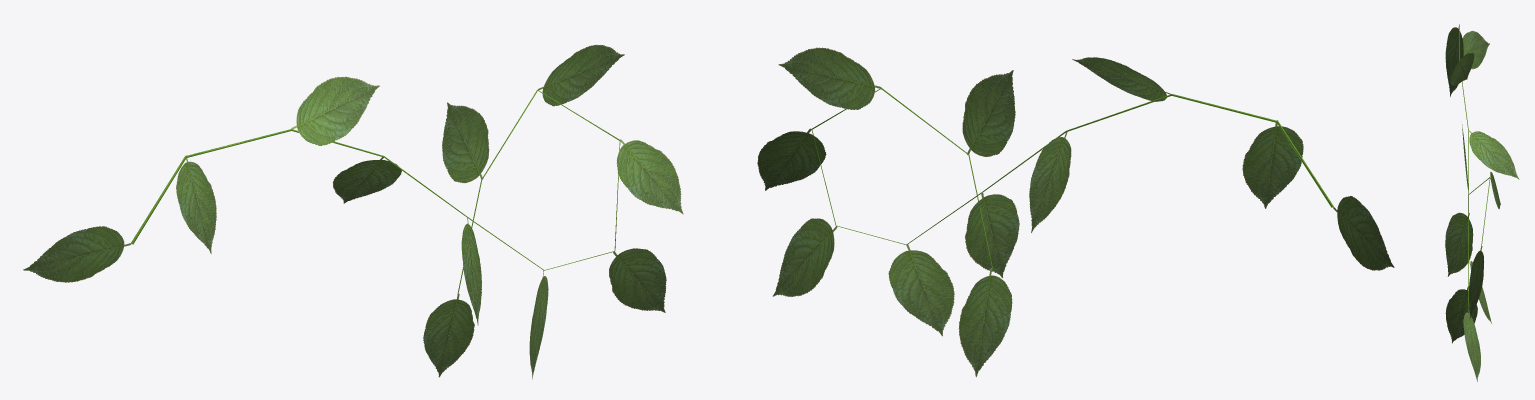
File: 74pvine.FBX
The picture shows the model from 3 angles, left to right: view 1: azimuth 30°, elevation 25°; view 2: azimuth 150°, elevation 25°; view 3: azimuth 270°, elevation 25°; orthographic projection. The views are drawn at different scales.
Parts seen in each view (by area): view 1: Plane003, Plane001, Plane008, Plane010, Plane007, Plane011, Plane009, Plane002, Plane004, Cylinder003, Plane005, Plane006; view 2: Plane009, Plane006, Plane011, Plane010, Plane005, Plane002, Plane007, Plane008, Plane004, Plane001, Plane003, Cylinder003; view 3: Plane005, Plane004, Plane006, Plane002, Plane007, Plane008, Plane001, Plane003, Cylinder003, Plane011, Plane009, Plane010.
Part boxes in pixels (left/top/right/bottom): Plane003: left=290, top=76, right=379, bottom=145; Plane001: left=23, top=226, right=131, bottom=282; Plane008: left=616, top=139, right=683, bottom=214; Plane010: left=442, top=102, right=489, bottom=183; Plane007: left=609, top=248, right=666, bottom=312; Plane011: left=423, top=294, right=474, bottom=377; Plane009: left=537, top=44, right=624, bottom=106; Plane002: left=176, top=155, right=216, bottom=253; Plane004: left=332, top=157, right=401, bottom=203; Cylinder003: left=131, top=90, right=620, bottom=294; Plane005: left=461, top=218, right=481, bottom=325; Plane006: left=529, top=270, right=548, bottom=379; Plane009: left=778, top=47, right=881, bottom=109; Plane006: left=888, top=244, right=954, bottom=336; Plane011: left=958, top=268, right=1012, bottom=377; Plane010: left=962, top=70, right=1015, bottom=156; Plane005: left=965, top=191, right=1019, bottom=278; Plane002: left=1242, top=120, right=1303, bottom=208; Plane007: left=772, top=218, right=837, bottom=296; Plane008: left=757, top=128, right=826, bottom=190; Plane004: left=1029, top=131, right=1071, bottom=232; Plane001: left=1333, top=196, right=1394, bottom=270; Plane003: left=1072, top=57, right=1171, bottom=101; Cylinder003: left=812, top=88, right=1333, bottom=268; Plane005: left=1445, top=212, right=1473, bottom=276; Plane004: left=1468, top=130, right=1519, bottom=179; Plane006: left=1445, top=286, right=1477, bottom=343; Plane002: left=1445, top=24, right=1463, bottom=96; Plane007: left=1463, top=309, right=1480, bottom=381; Plane008: left=1469, top=246, right=1483, bottom=318; Plane001: left=1462, top=31, right=1489, bottom=69; Plane003: left=1450, top=52, right=1474, bottom=85; Cylinder003: left=1459, top=25, right=1490, bottom=309; Plane011: left=1469, top=261, right=1492, bottom=324; Plane009: left=1490, top=171, right=1500, bottom=209; Plane010: left=1462, top=124, right=1468, bottom=190.
Size of the model in its own units: 190 by 98.7 by 32.6.
Materials: 2 (2 with a texture image).
